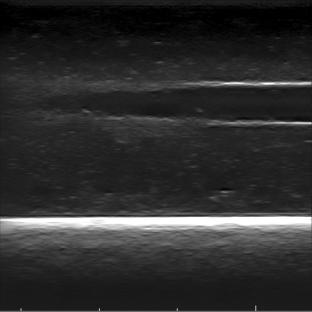vessel: (98, 79, 309, 128)
